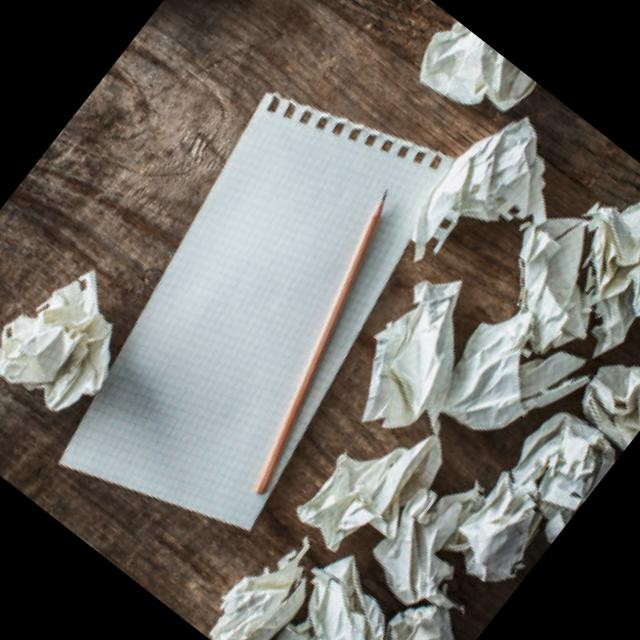KertasBekas: (130, 88, 640, 640), (0, 244, 157, 439)
